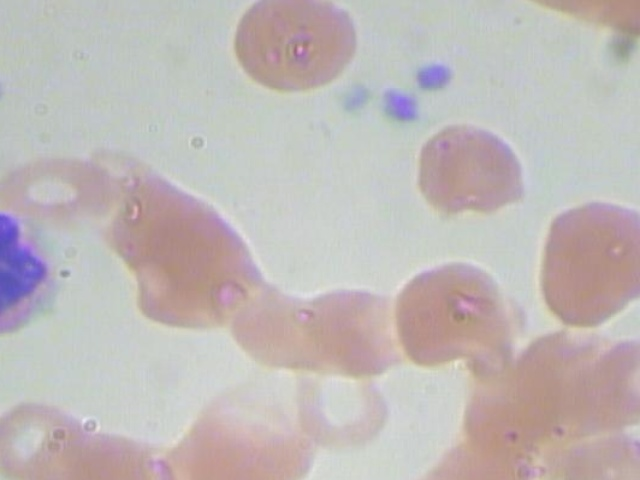Platelets: (405, 52, 456, 97), (377, 87, 420, 129), (333, 76, 376, 118), (0, 72, 14, 116)
RBC: (377, 240, 519, 374), (525, 194, 640, 329), (228, 0, 367, 96), (412, 116, 535, 224), (286, 356, 397, 452), (296, 284, 407, 379), (0, 144, 126, 224), (0, 388, 92, 480), (584, 328, 640, 423)
WBC: (0, 201, 61, 343)
